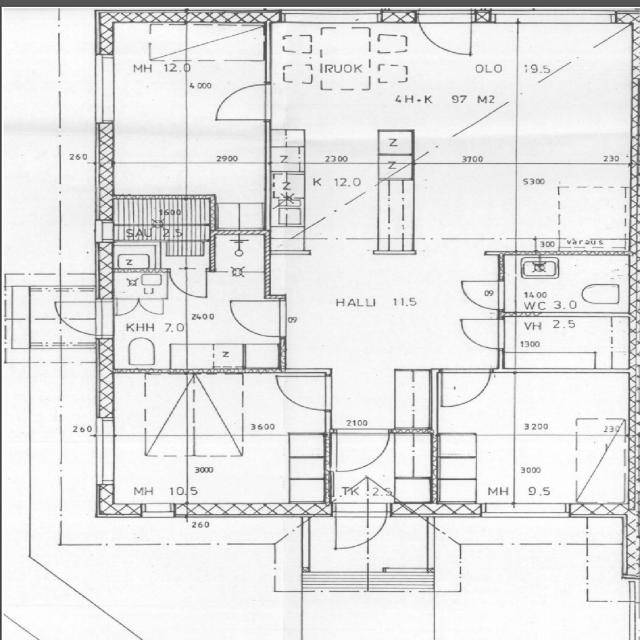door: (417, 8, 477, 59), (208, 79, 275, 124), (329, 428, 392, 474), (434, 367, 494, 410), (273, 371, 333, 413), (228, 298, 288, 340), (108, 271, 170, 311), (455, 316, 509, 352), (55, 300, 100, 339), (458, 278, 508, 312), (169, 266, 209, 298), (132, 296, 169, 318), (111, 296, 143, 318)
window: (90, 53, 119, 126)
zone: (272, 20, 512, 163), (275, 250, 498, 371), (412, 160, 635, 254), (434, 536, 620, 640), (500, 254, 634, 316), (181, 295, 282, 373), (501, 315, 634, 373), (108, 296, 186, 372), (101, 453, 189, 515), (210, 232, 267, 290), (108, 270, 169, 304), (105, 242, 163, 274)
